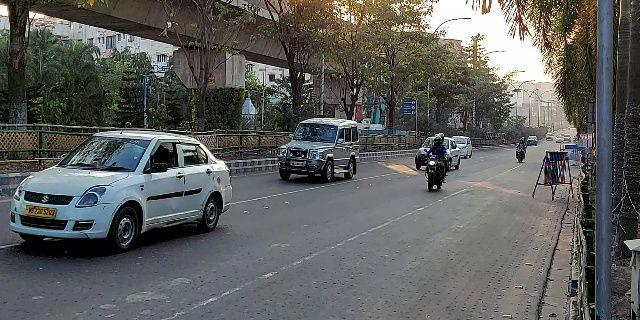Car: (8, 127, 235, 251), (274, 115, 361, 186), (408, 138, 464, 175)
Motorbike: (420, 129, 449, 195), (513, 134, 529, 166)
